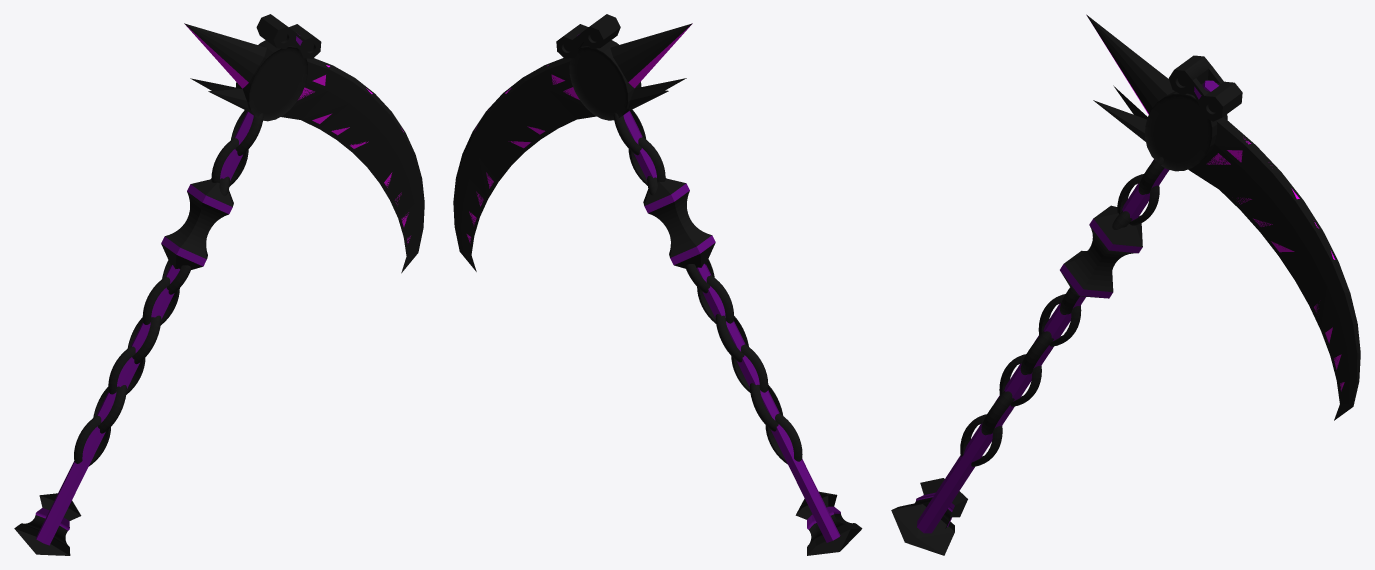
The model's file is SickleSkin.glb.
The picture shows the model from 3 angles, left to right: view 1: azimuth 30°, elevation 25°; view 2: azimuth 150°, elevation 25°; view 3: azimuth 330°, elevation 25°; orthographic projection. The views are drawn at different scales.
Parts seen in each view (by area): view 1: Group13, Group2, Group1, Componen03, Group19, Group21, Group16, Group20, Group14; view 2: Group13, Group2, Group1, Componen02, Group19, Group21, Group18, Group20, Group15; view 3: Group13, Group2, Group1, Group19, Componen03, Group21, Group16, Group20, Group18, Group14.
Part boxes in pixels (x1=…): Group13: x1=281, y1=58, x2=424, y2=273; Group2: x1=36, y1=34, x2=299, y2=545; Group1: x1=236, y1=40, x2=307, y2=121; Componen03: x1=184, y1=23, x2=266, y2=111; Group19: x1=161, y1=179, x2=233, y2=269; Group21: x1=14, y1=493, x2=81, y2=555; Group16: x1=265, y1=20, x2=321, y2=58; Group20: x1=161, y1=184, x2=232, y2=266; Group14: x1=298, y1=65, x2=410, y2=242; Group13: x1=453, y1=58, x2=596, y2=271; Group2: x1=577, y1=34, x2=840, y2=542; Group1: x1=569, y1=40, x2=641, y2=120; Componen02: x1=610, y1=23, x2=692, y2=110; Group19: x1=643, y1=178, x2=715, y2=268; Group21: x1=795, y1=491, x2=862, y2=555; Group18: x1=556, y1=20, x2=612, y2=58; Group20: x1=644, y1=183, x2=715, y2=264; Group15: x1=466, y1=65, x2=579, y2=243; Group13: x1=1188, y1=117, x2=1360, y2=420; Group2: x1=917, y1=80, x2=1218, y2=533; Group1: x1=1145, y1=91, x2=1227, y2=171; Group19: x1=1060, y1=205, x2=1142, y2=298; Componen03: x1=1086, y1=14, x2=1174, y2=141; Group21: x1=891, y1=478, x2=967, y2=555; Group16: x1=1168, y1=62, x2=1232, y2=121; Group20: x1=1060, y1=218, x2=1142, y2=298; Group18: x1=1184, y1=55, x2=1242, y2=109; Group14: x1=1206, y1=139, x2=1344, y2=391.
Size of the model in its own units: 259 by 304 by 32.74.
